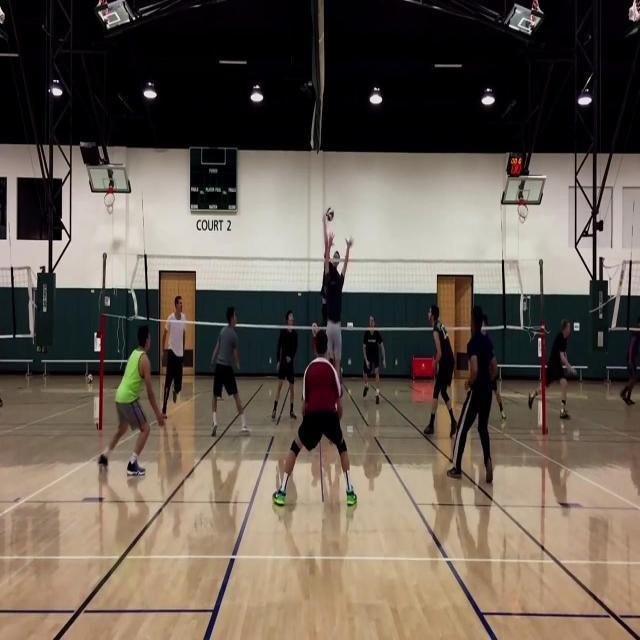volleyball: (326, 208, 334, 221)
